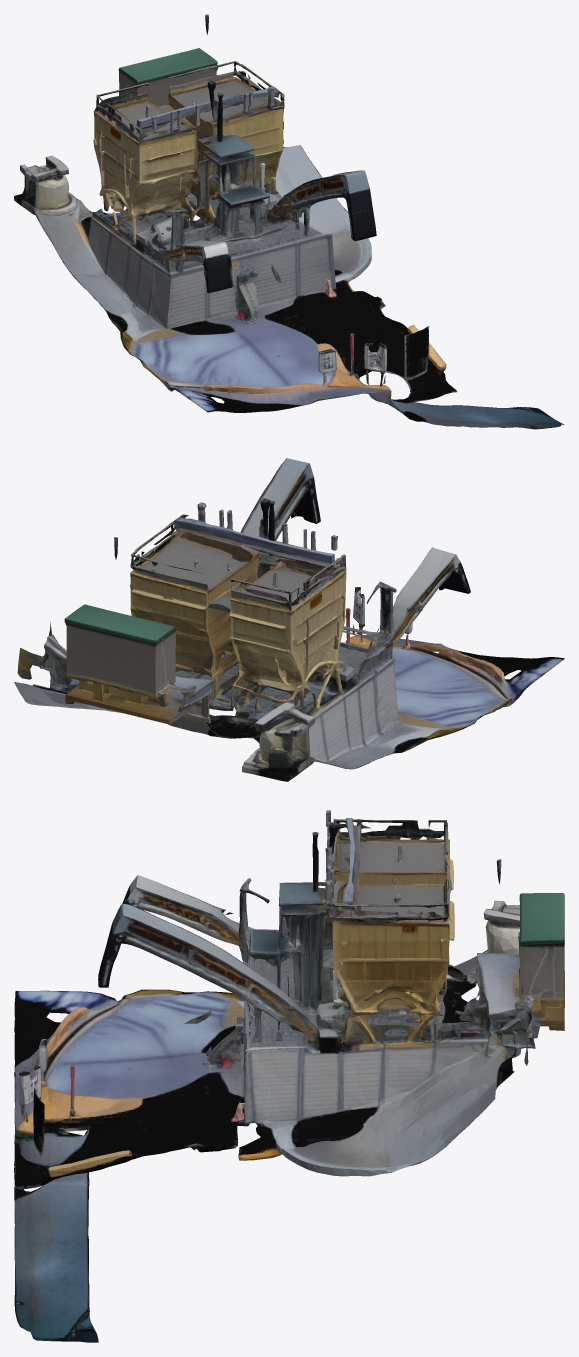
The picture shows the model from 3 angles, top to bottom: view 1: azimuth 30°, elevation 25°; view 2: azimuth 150°, elevation 25°; view 3: azimuth 270°, elevation 25°; orthographic projection. The views are drawn at different scales.
Visible parts, largest first — view 1: world; view 2: world; view 3: world.
Part boxes in pixels (box(x1,y1,x2,y2)): world: box(14, 14, 564, 429); world: box(14, 458, 564, 781); world: box(14, 810, 564, 1342).
Bounding box in the file's own units: 0.9415 × 0.7686 × 1.
1 material, 1 textured.
